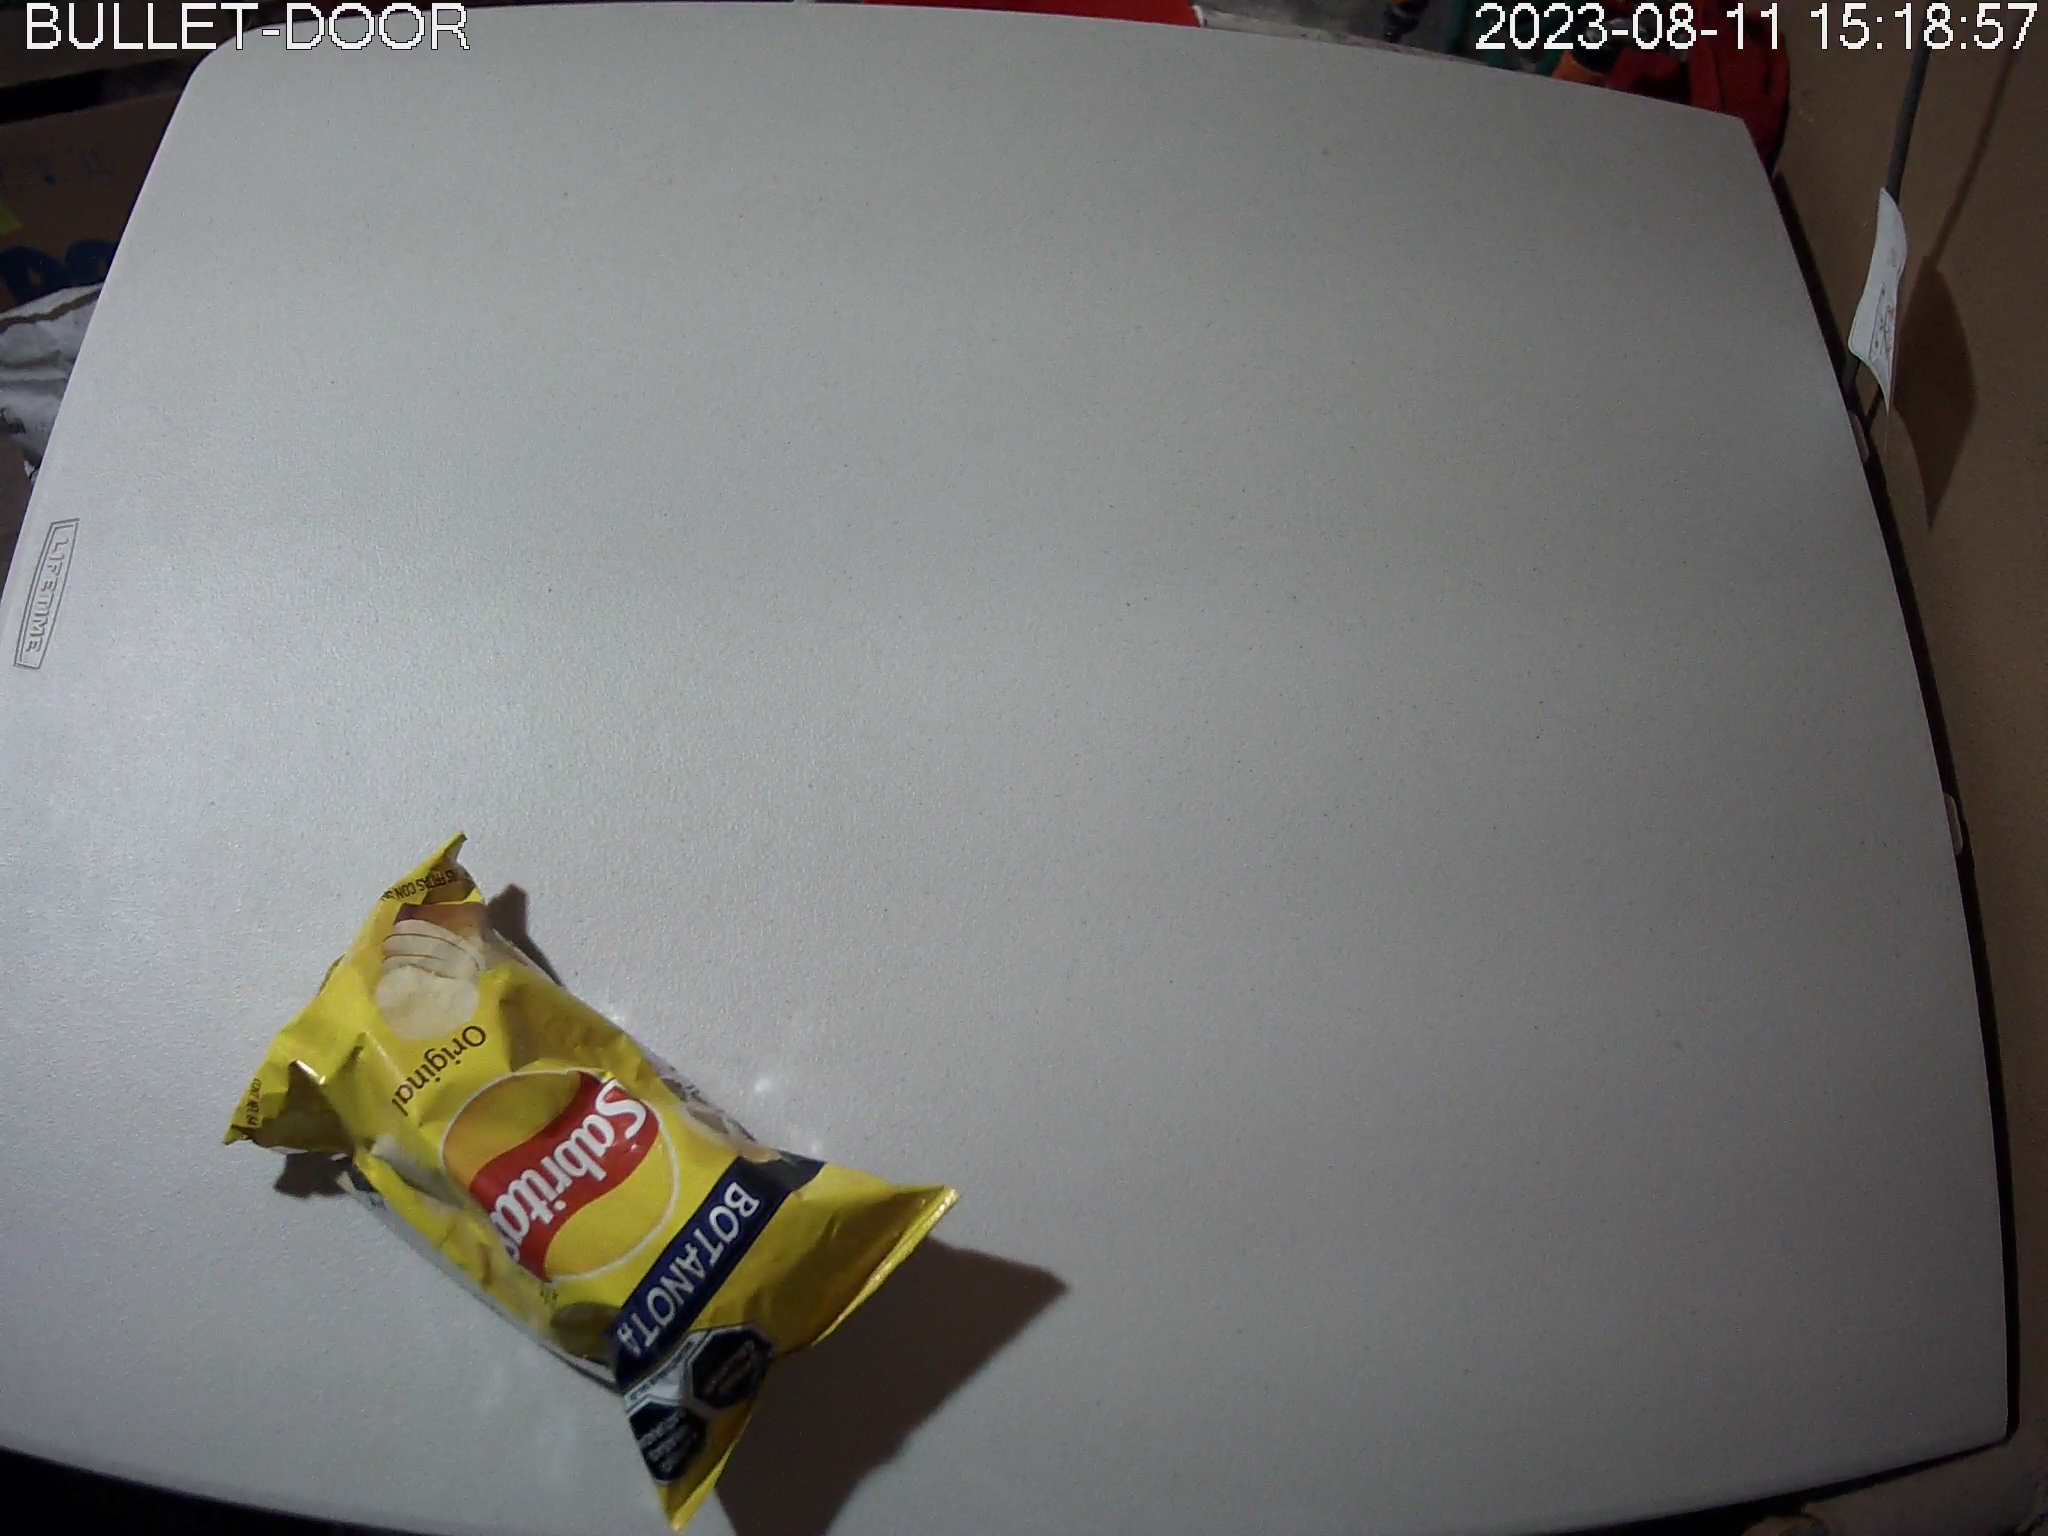Sabritas_64_F: (226, 831, 959, 1536)
